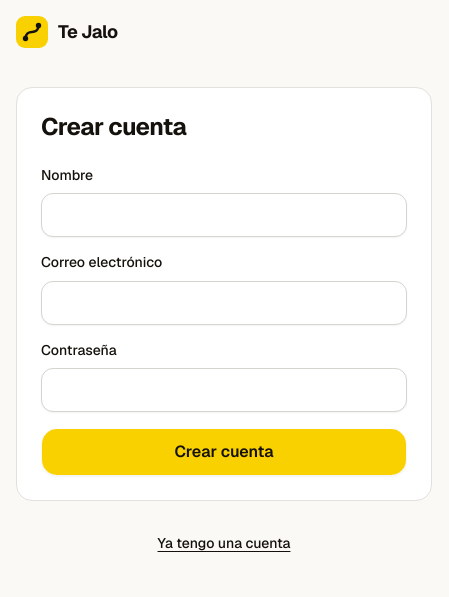
sign-up page › requires a name of at least 2 characters
Type "A" into the field labelled "Nombre". click: {"x": 224, "y": 215}
box: [41,193,407,237]
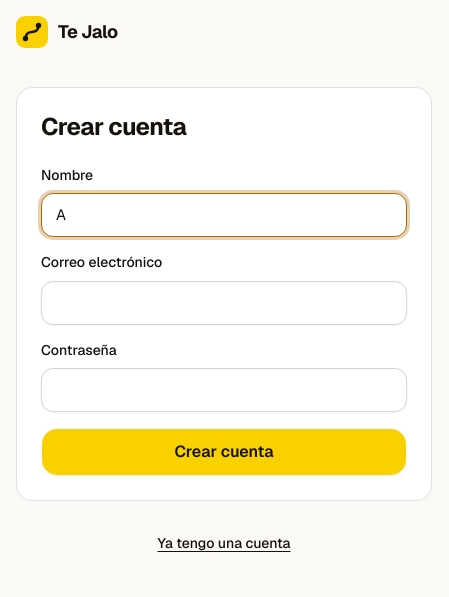
Type "ana@uni.edu.pe" into the field labelled "Correo electrónico". click: {"x": 224, "y": 302}
box: [41,280,407,324]
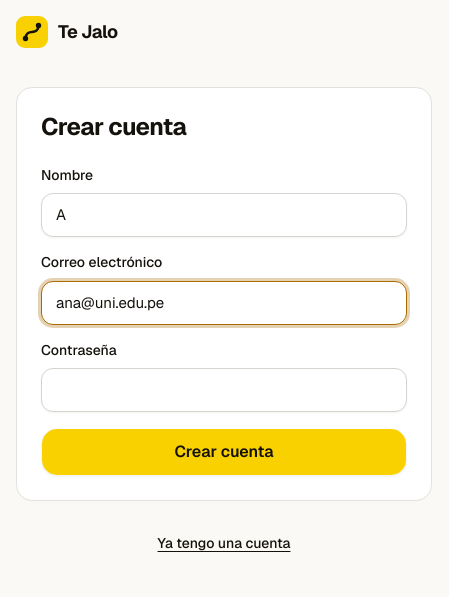
Type "12345678" into the password field labelled "Contraseña". click: {"x": 224, "y": 390}
box: [41,368,407,412]
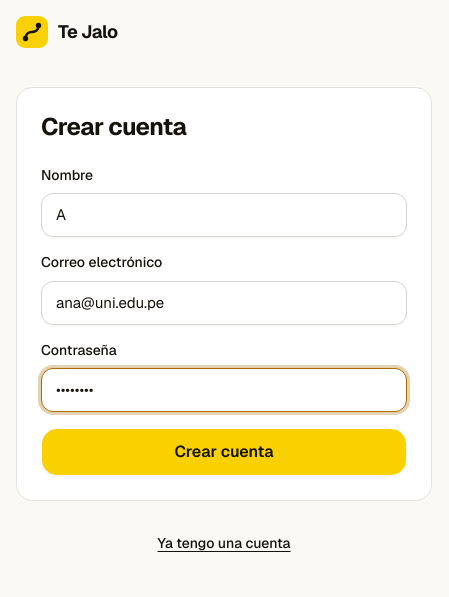
Click the button "Crear cuenta". click: {"x": 224, "y": 452}
box: [41,428,407,476]
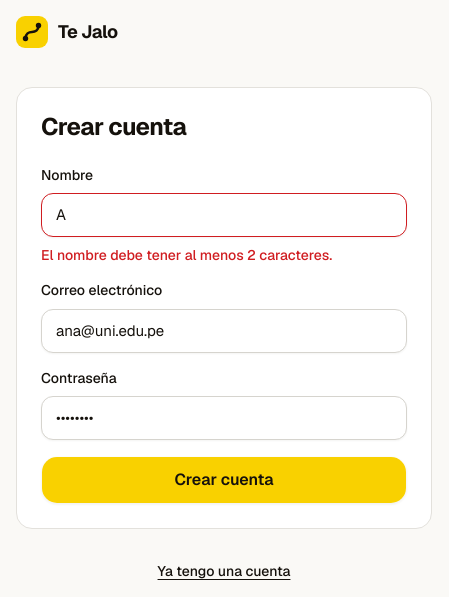
Now the text "El nombre debe tener al menos 2 caracteres." is shown, box [41,246,332,264]
